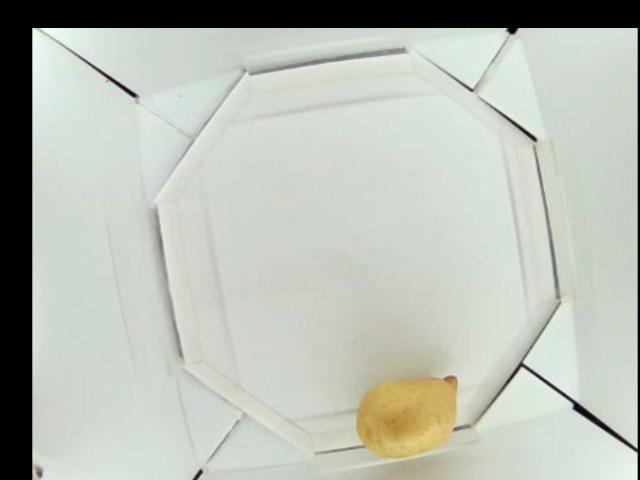Potato: (355, 371, 461, 464)
